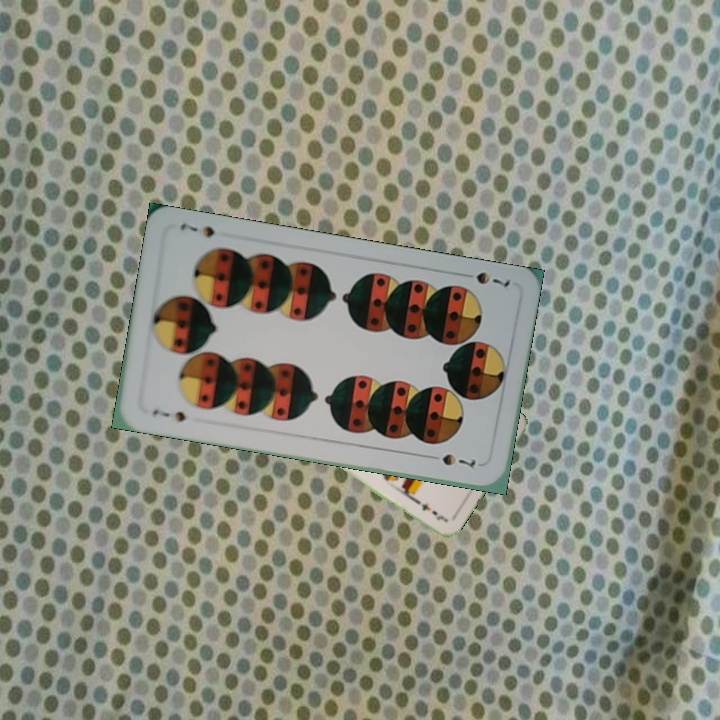S7: (472, 267, 513, 290), (148, 405, 192, 425)
